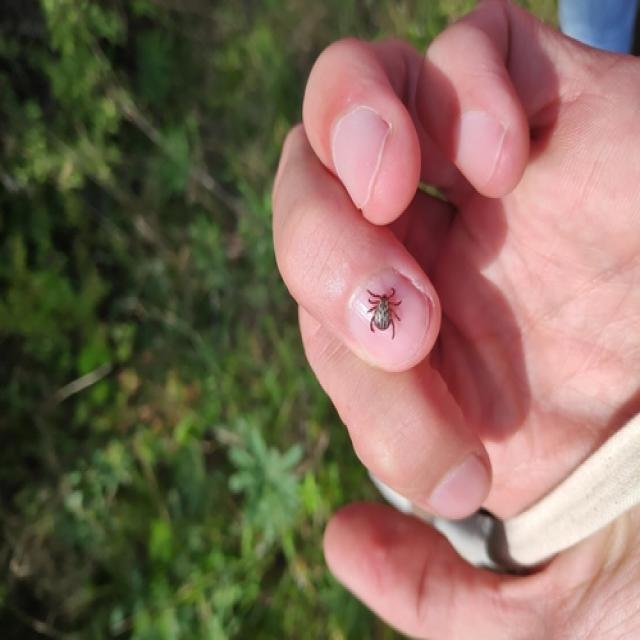Dermacentor Reticulatus-M: (353, 270, 404, 340)
